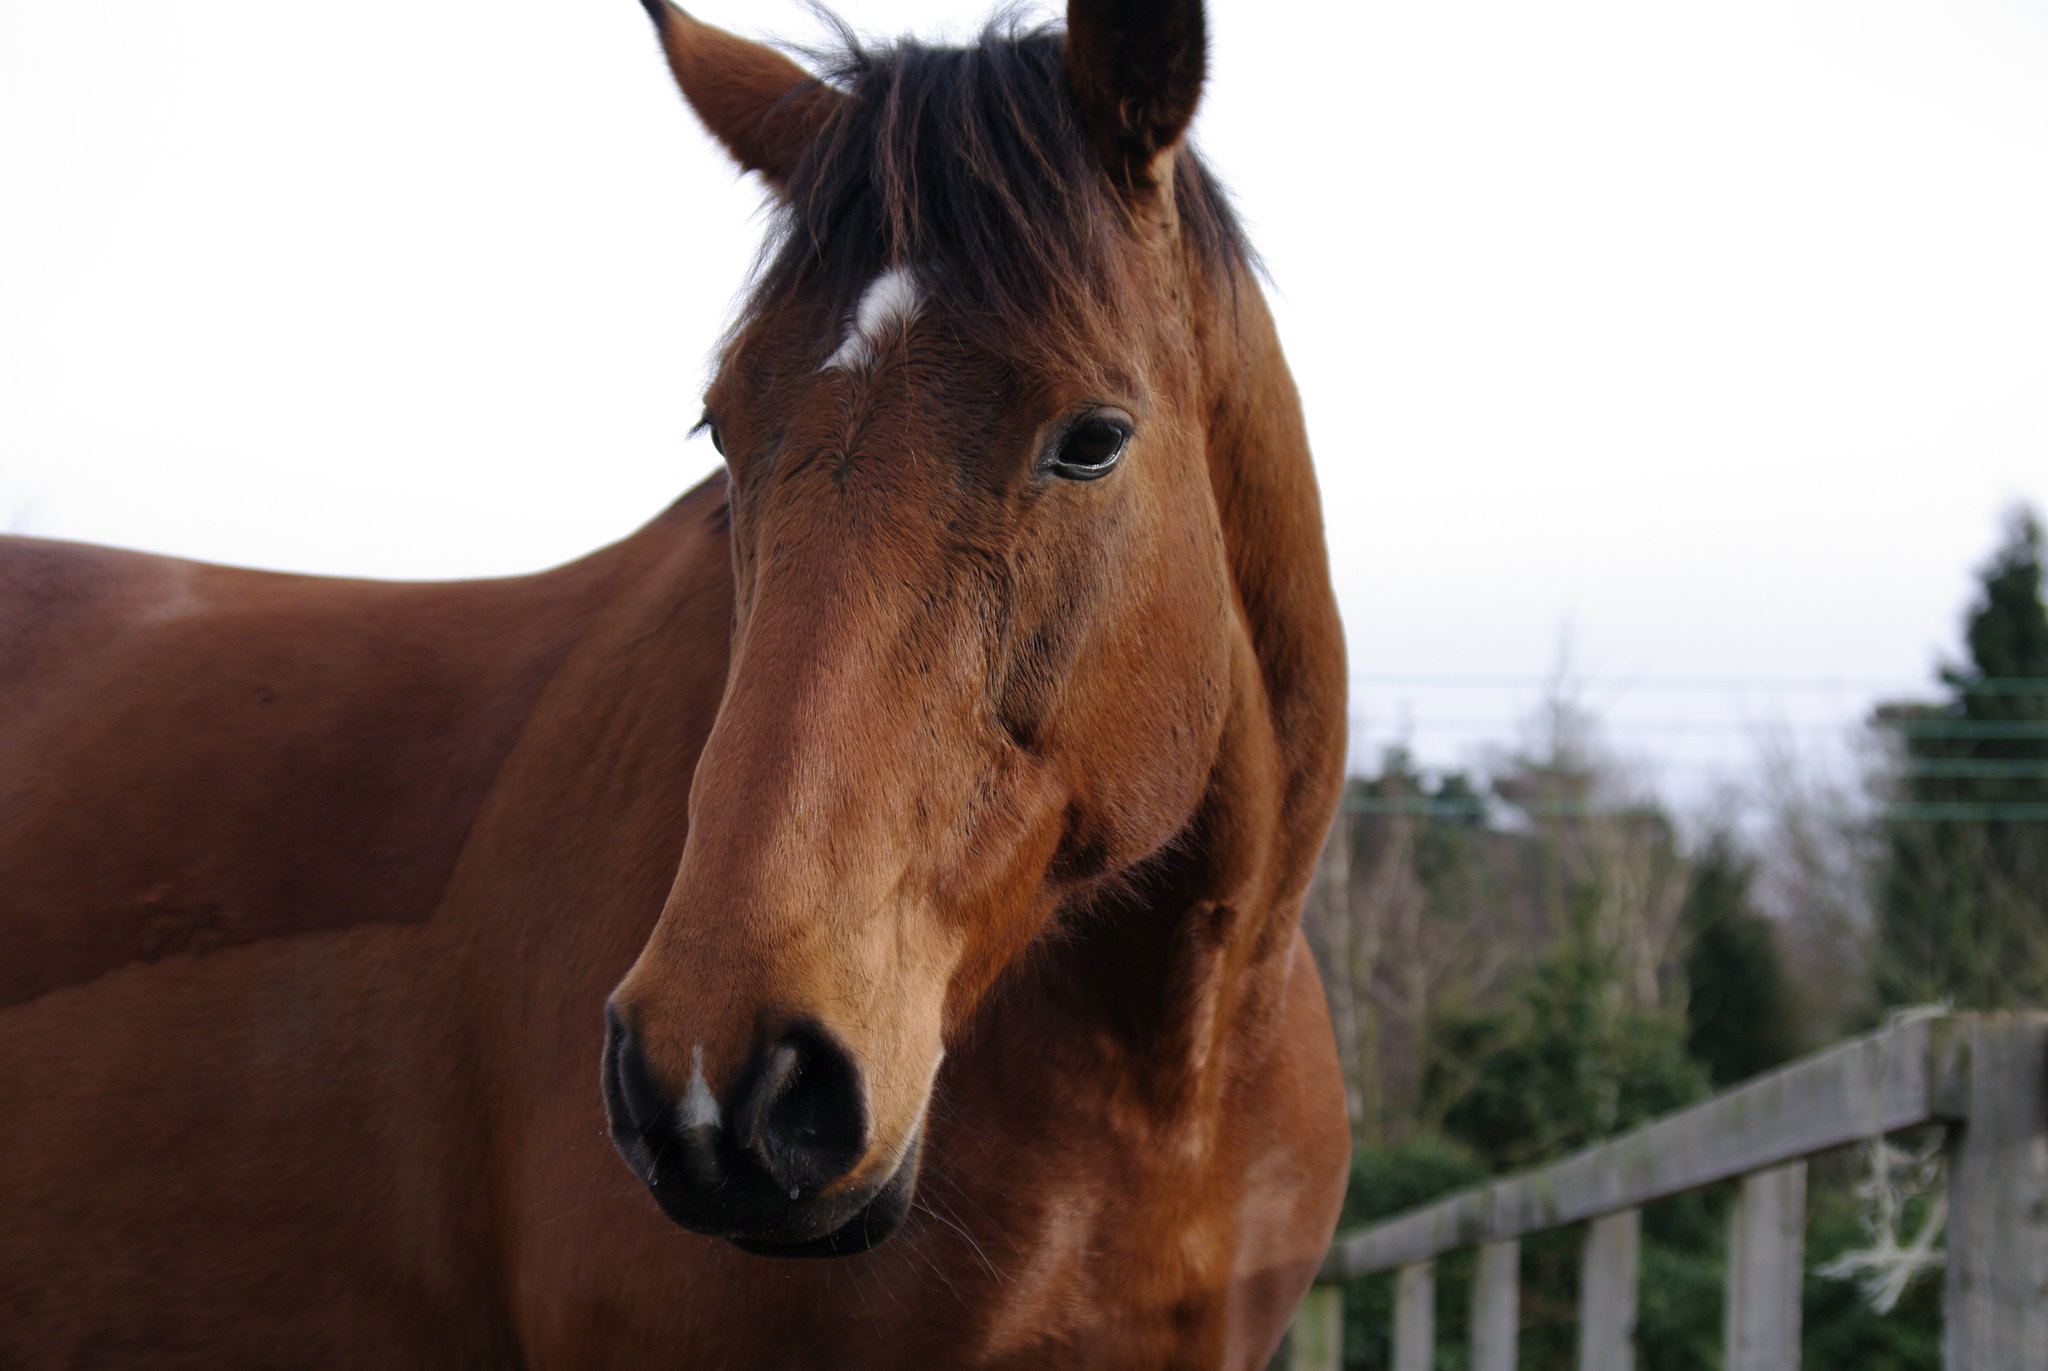horse: (2, 5, 1370, 1366)
